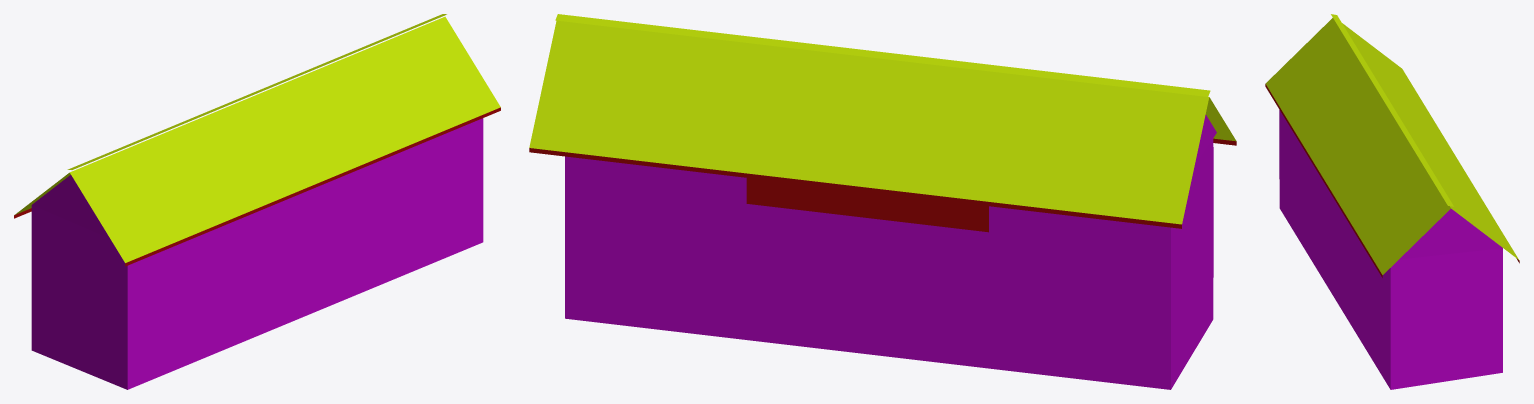
Rendered from btm_2.glb.
3 renders of one model, left to right at view 1: azimuth 30°, elevation 25°; view 2: azimuth 150°, elevation 25°; view 3: azimuth 270°, elevation 25°, orthographic. The views are drawn at different scales.
Visible parts, largest first — view 1: btm_2; view 2: btm_2; view 3: btm_2.
Part boxes in pixels (box(x1,y1,x2,y2)): btm_2: box(14, 14, 500, 389); btm_2: box(529, 14, 1236, 389); btm_2: box(1265, 14, 1519, 389).
Size of the model in its own units: 17.66 by 7.28 by 9.17.
